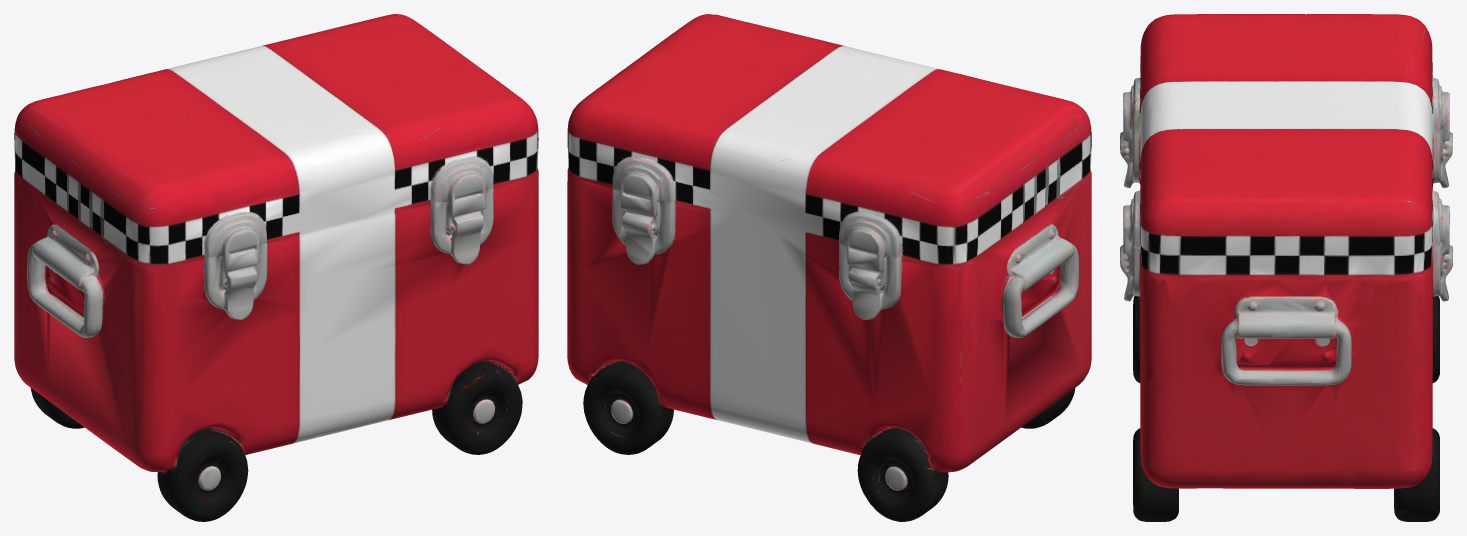
Rendered from chest-racers.glb.
3 renders of one model, left to right at view 1: azimuth 30°, elevation 25°; view 2: azimuth 150°, elevation 25°; view 3: azimuth 270°, elevation 25°, orthographic. The views are drawn at different scales.
Visible parts, largest first — view 1: Mesh_0; view 2: Mesh_0; view 3: Mesh_0.
Boxes of the visible parts, bbox=[...] form: Mesh_0: bbox=[14, 14, 538, 521]; Mesh_0: bbox=[567, 14, 1091, 521]; Mesh_0: bbox=[1120, 14, 1452, 521].
Bounding box in the file's own units: 1.9 × 1.38 × 1.21.
1 material, 1 textured.
